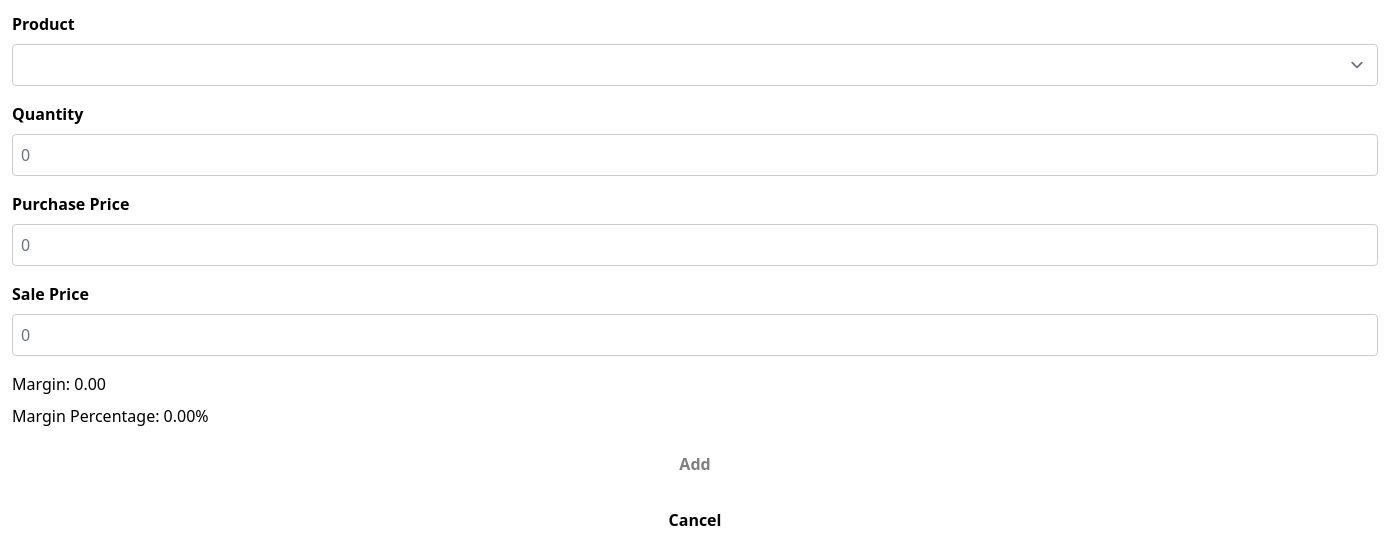
Scenario: ProductForm.svelte › Real-time Calculations › should calculate and display margin amount
The image size is (1390, 543).
Select "Apples" in the dropdown labelled "Product" at (695, 65), box [12,44,1378,86]
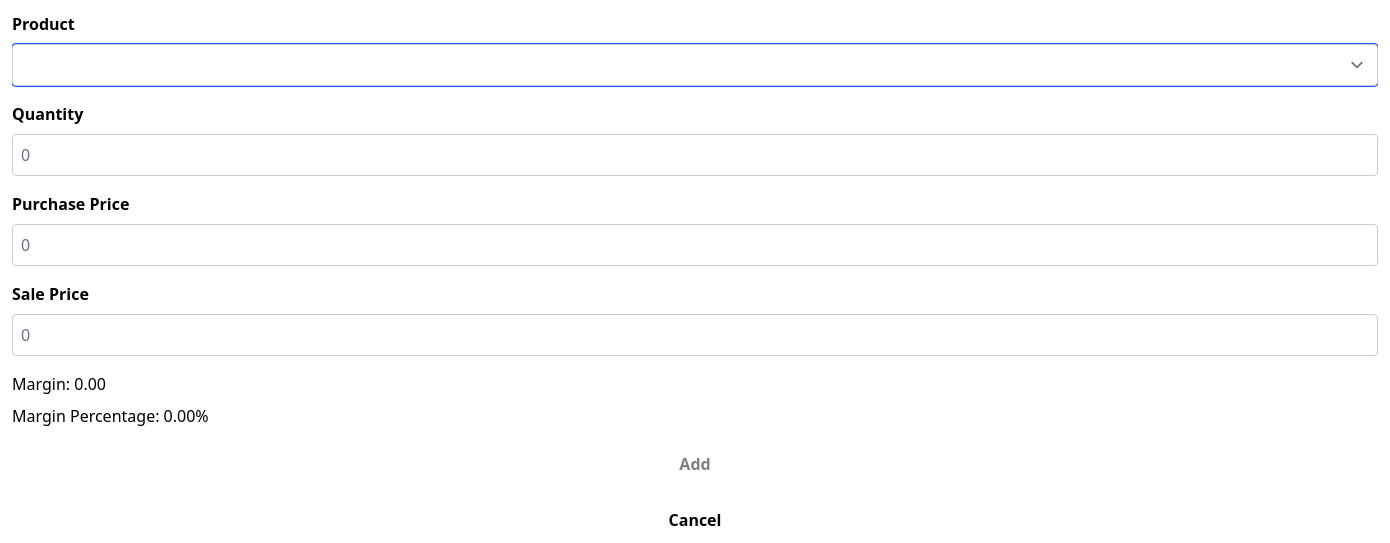
Type "2" into the number field labelled "Quantity".
click(695, 155); type("2")  # box [12,134,1378,176]
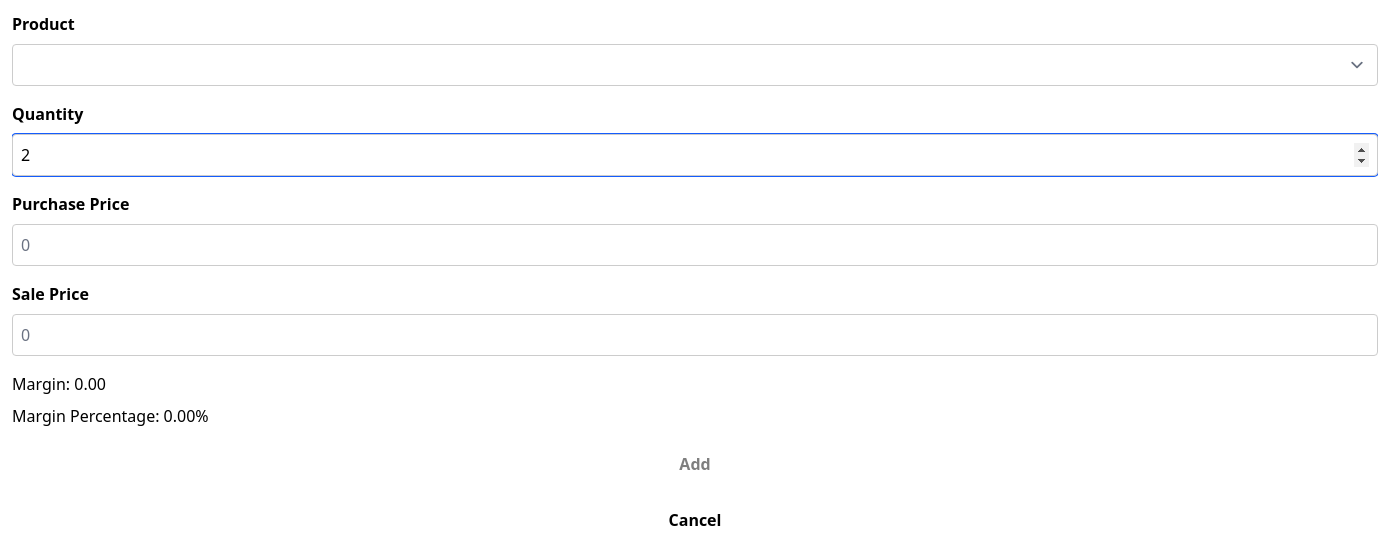
Type "10" into the number field labelled "Purchase Price".
click(695, 245); type("10")  # box [12,224,1378,266]
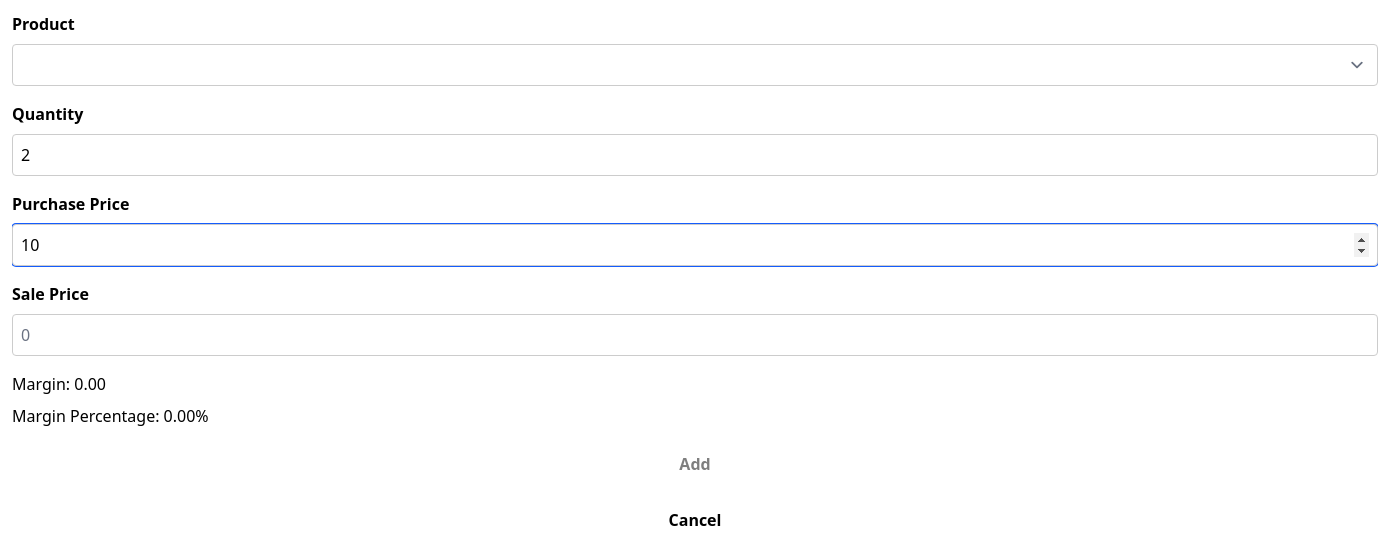
Type "15" into the number field labelled "Sale Price".
click(695, 335); type("15")  # box [12,314,1378,356]
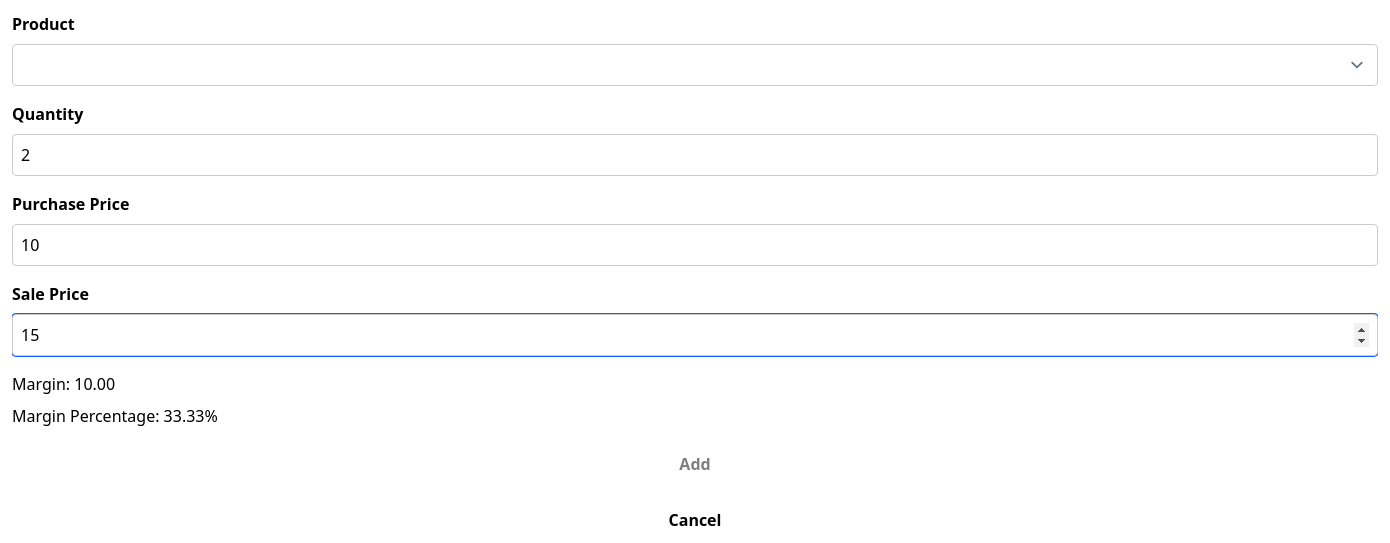
expect the text "Margin: 10.00" is shown: met, box [12,373,115,395]
